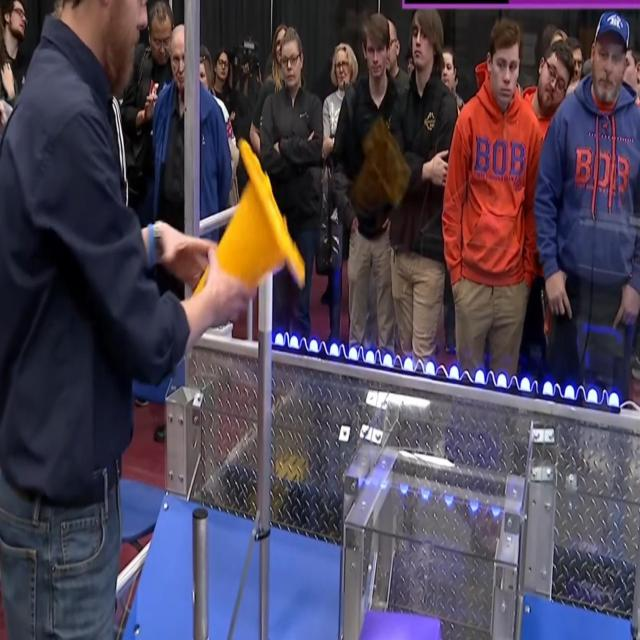frc_cone: (192, 136, 308, 309)
frc_cube: (356, 608, 447, 640)
